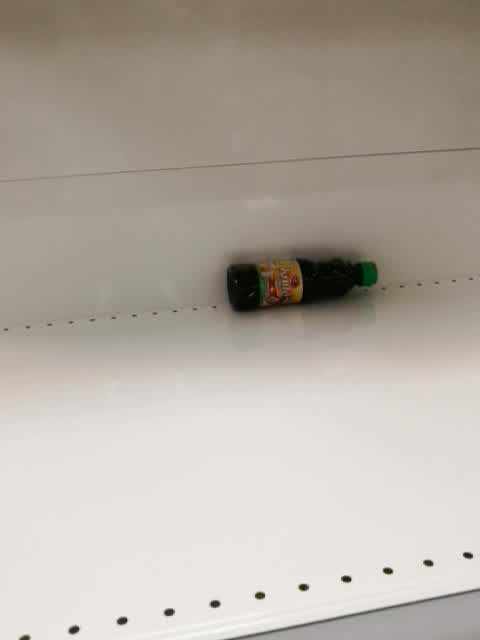cookingoil: (222, 252, 382, 313)
